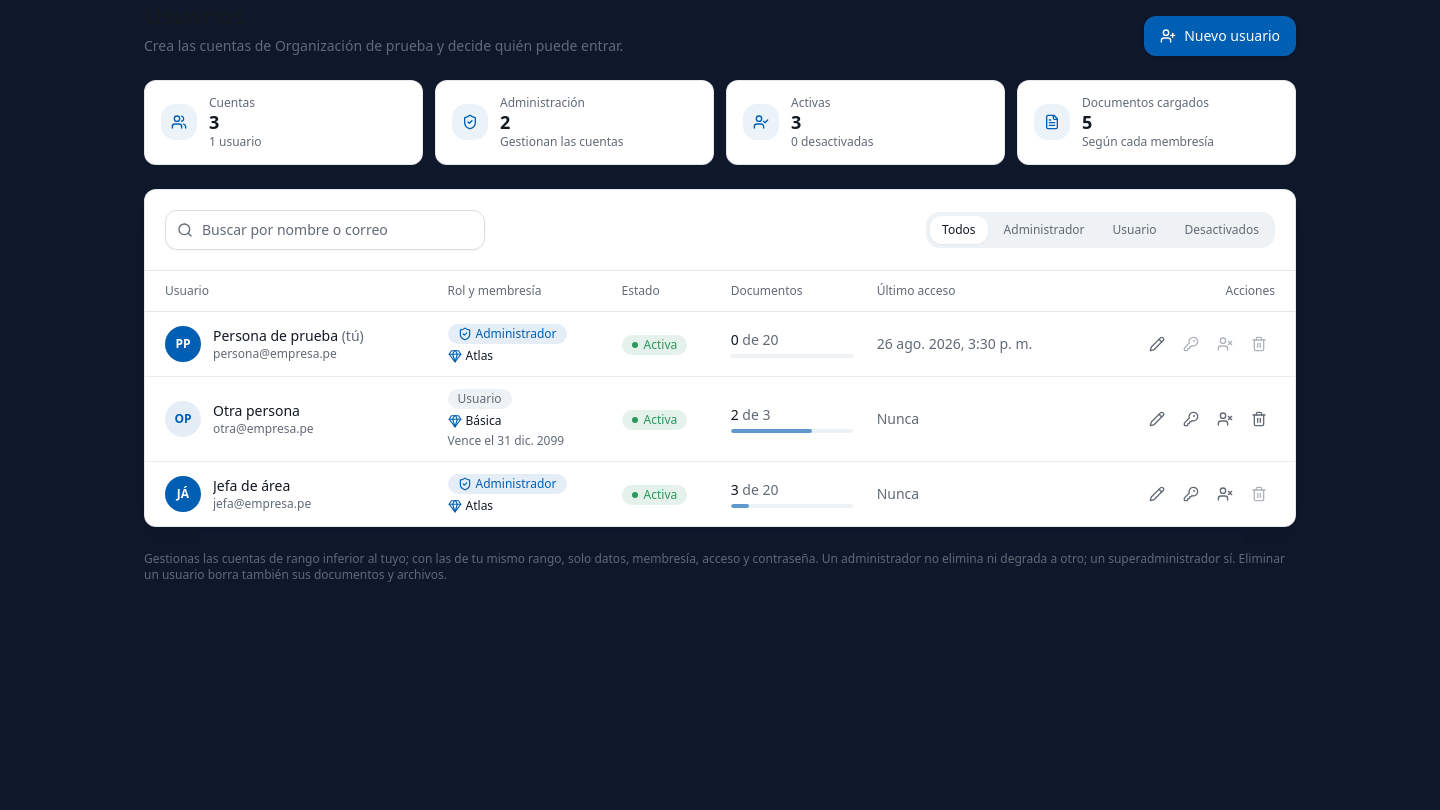
Test: MembersPage: alta › crea una cuenta con contraseña generada y la muestra una sola vez
Expected: the text "Otra persona" is shown, 213,400 -> 314,420
Click the button "Nuevo usuario": (1220, 36) 1144,16 -> 1296,56
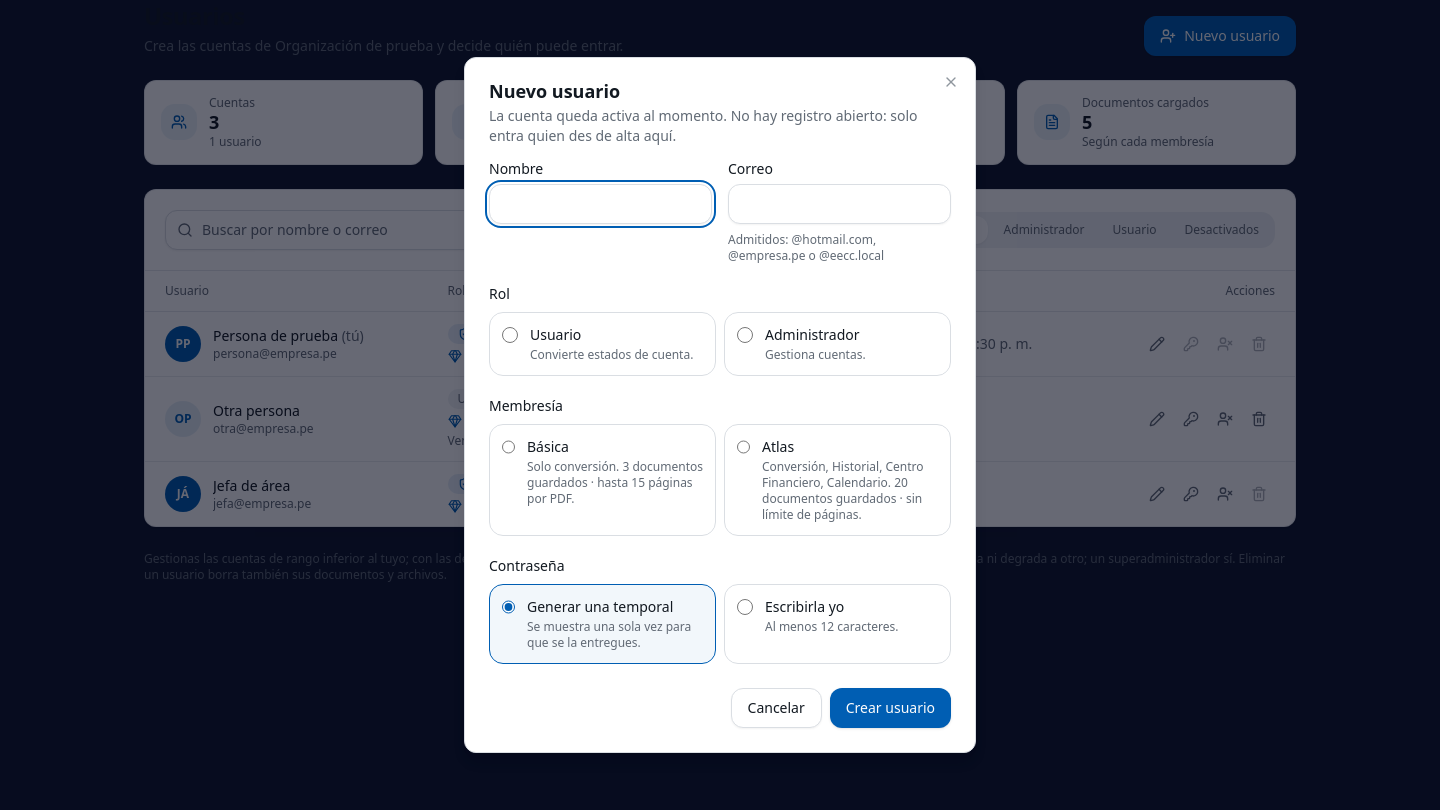
In the field labelled "Nombre": (600, 204) 489,184 -> 712,224, type "Persona nueva"
In the field labelled "Correo": (840, 204) 728,184 -> 951,224, type "nueva@empresa.pe"
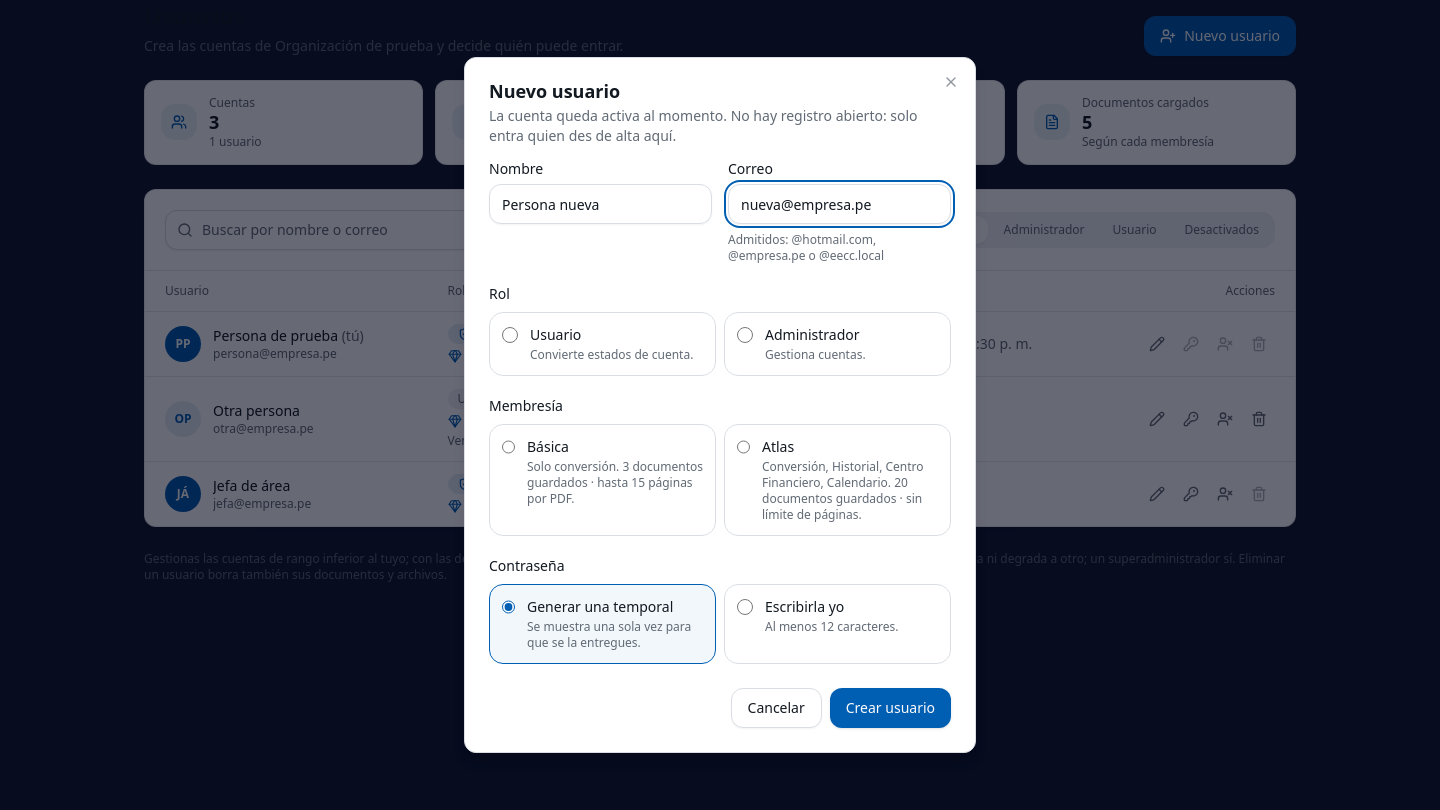
Click the radio button labelled "Usuario Convierte estados de cuenta.": (510, 335) 502,327 -> 518,343
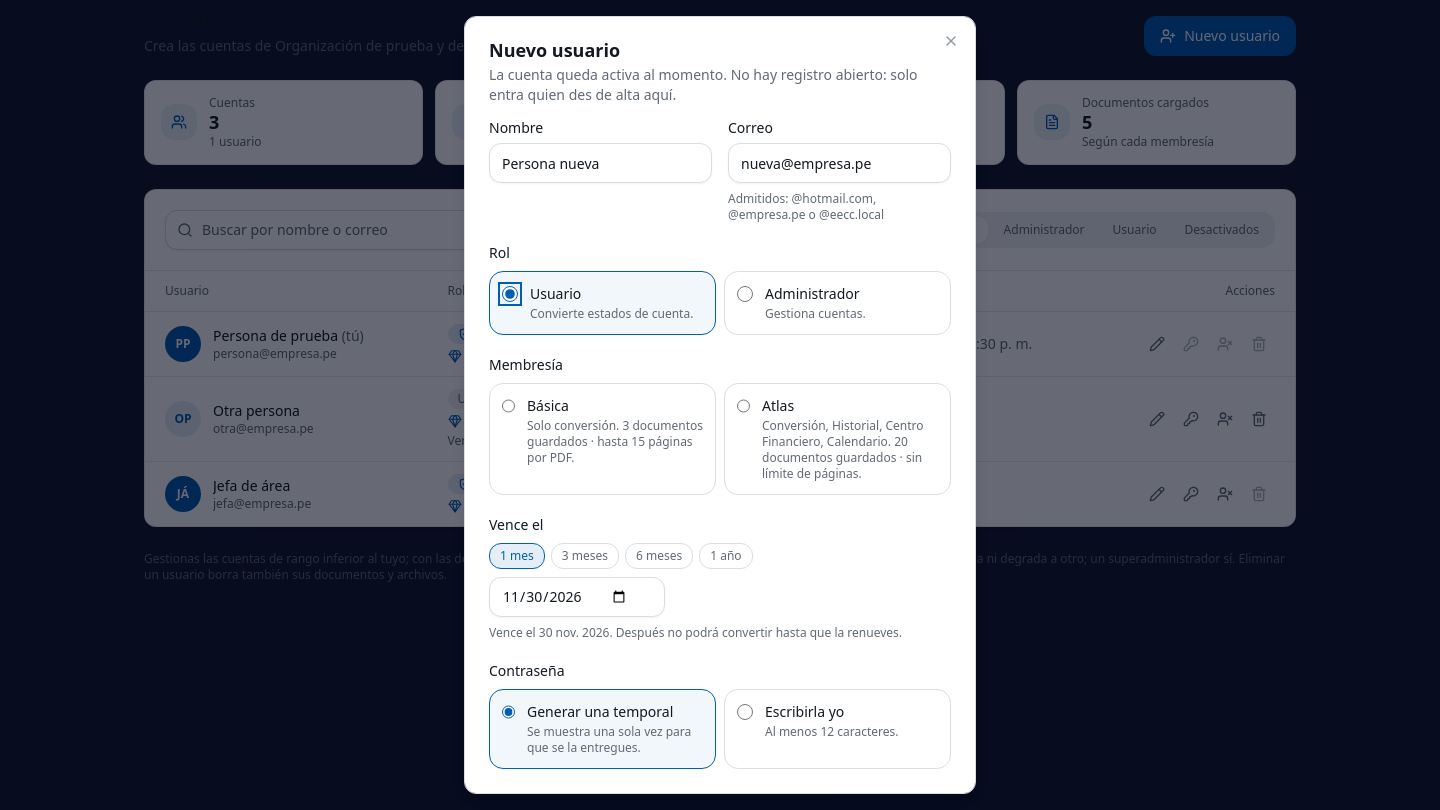
Click the radio button labelled "Básica": (508, 406) 502,398 -> 515,414
(page scrolled)
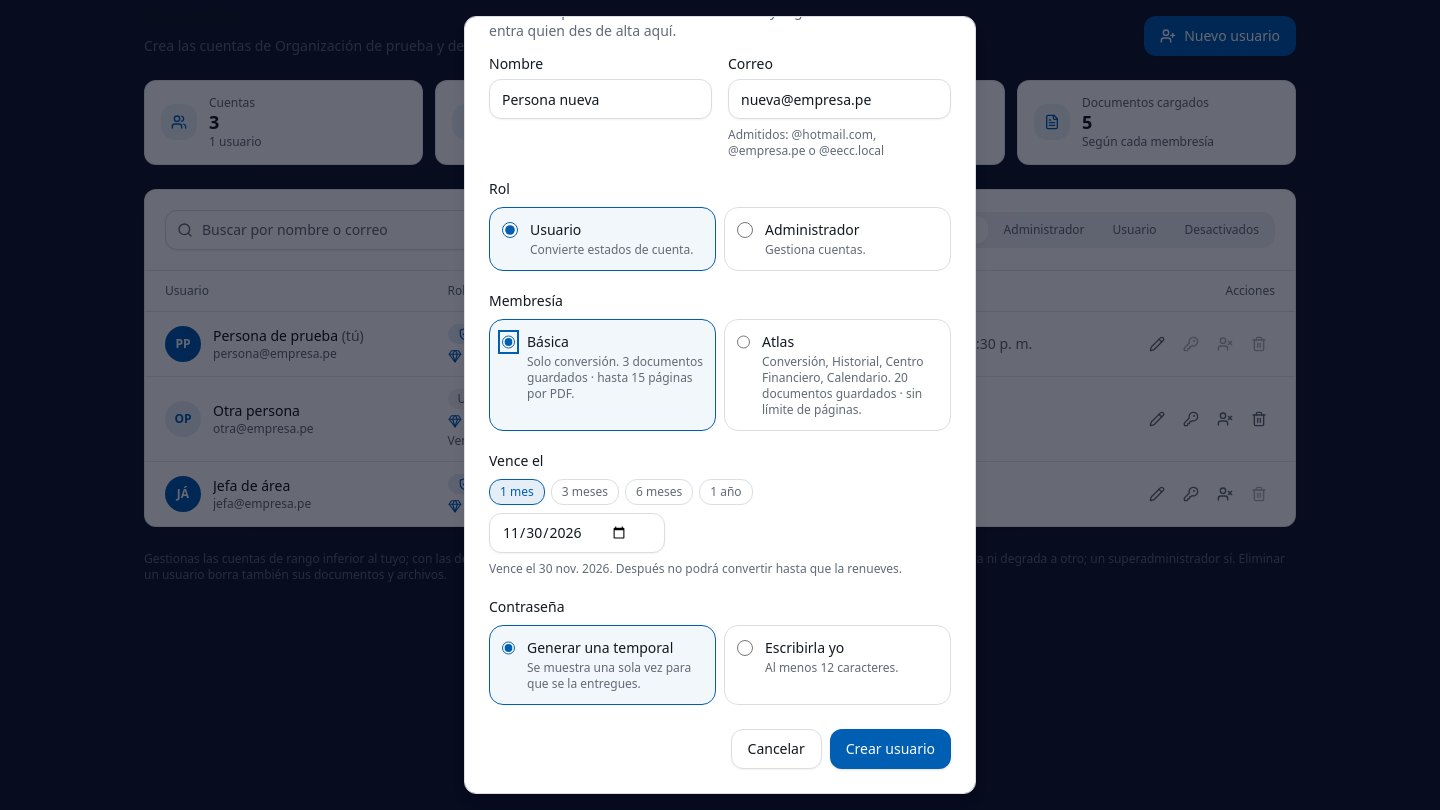
Click the button "Crear usuario": (890, 749) 830,729 -> 951,769
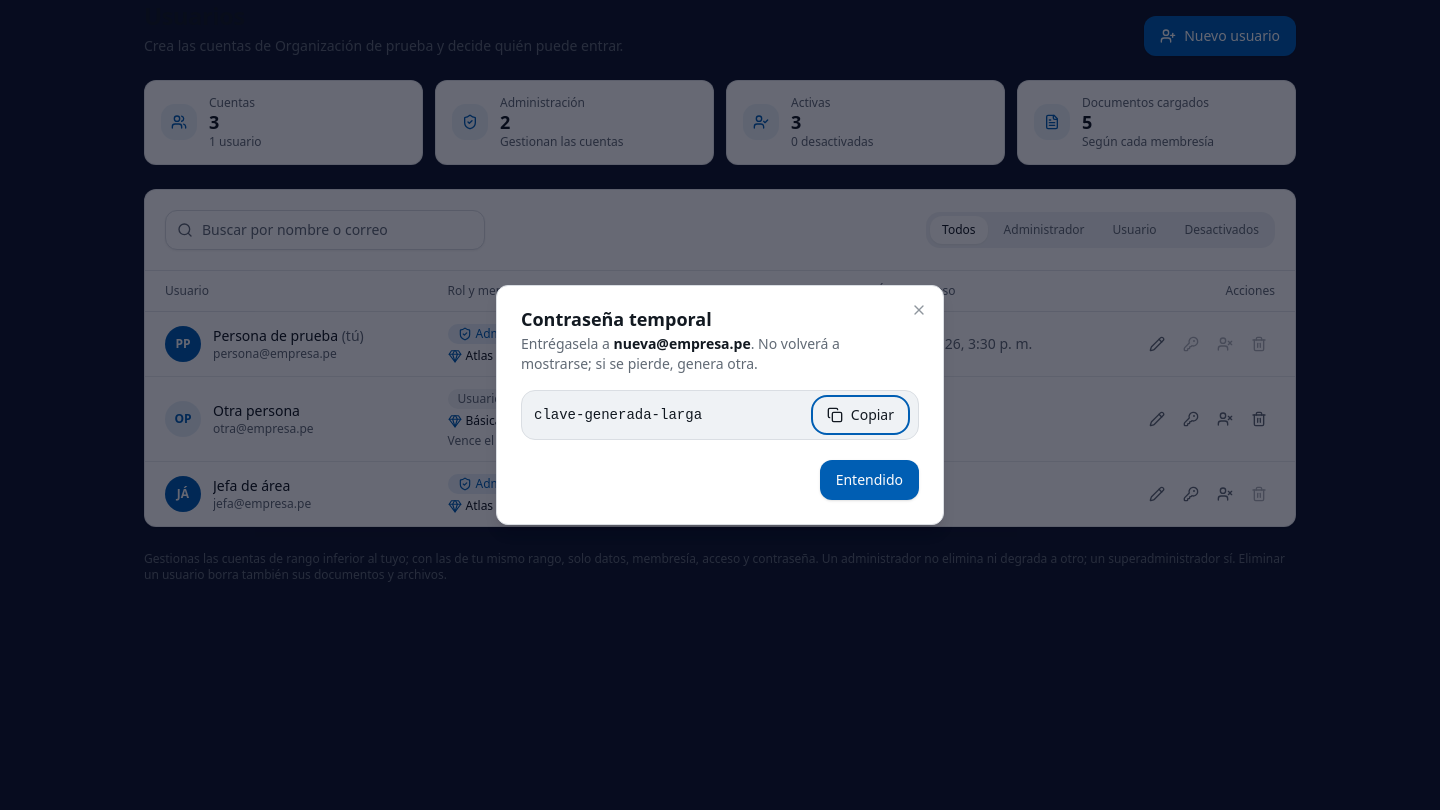
Expected: the text "clave-generada-larga" is shown, 534,407 -> 702,423
Click the button "Entendido": (869, 480) 820,460 -> 919,500
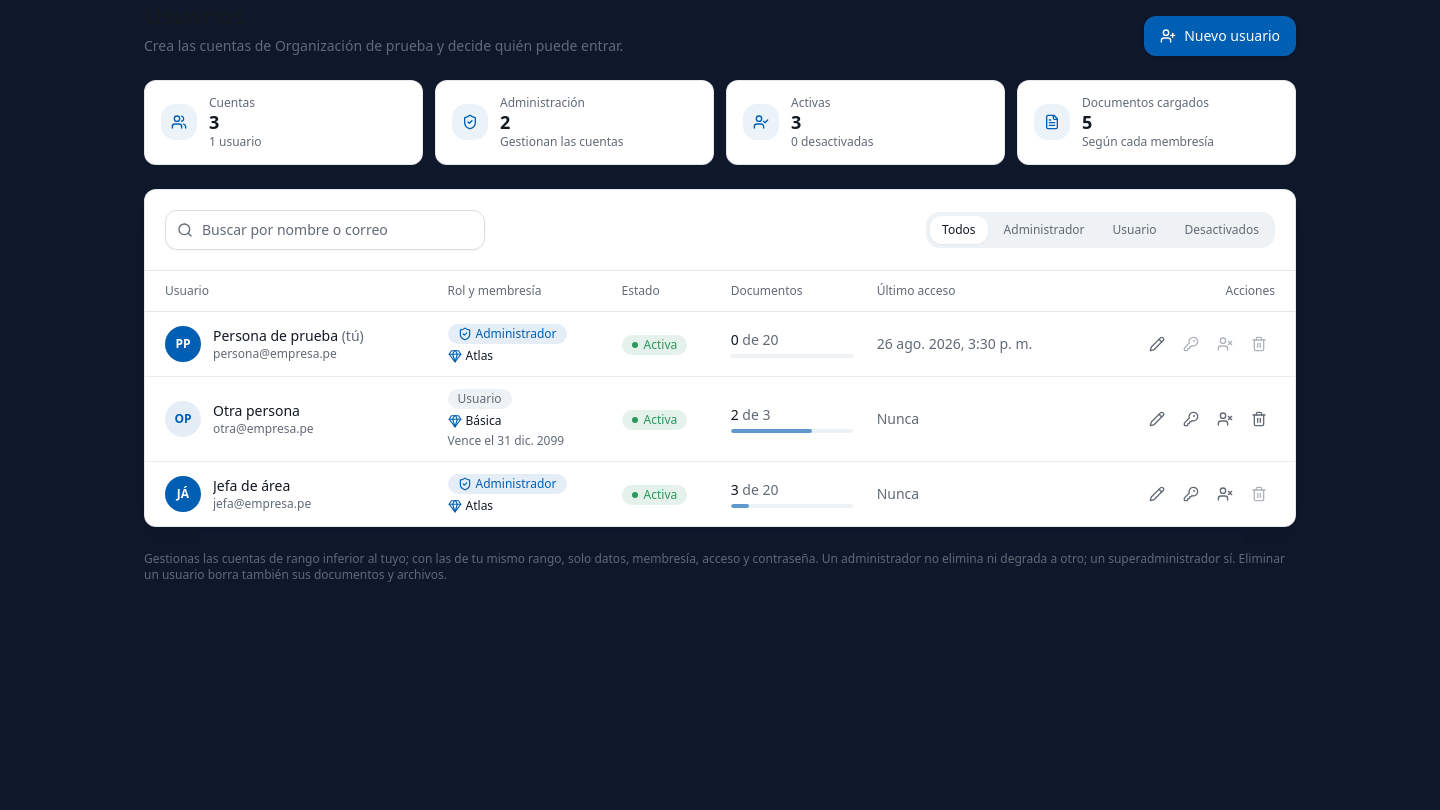
Expected: the text "clave-generada-larga" is gone
